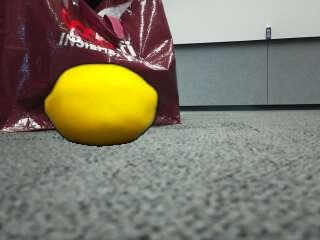lemon: (44, 64, 157, 146)
